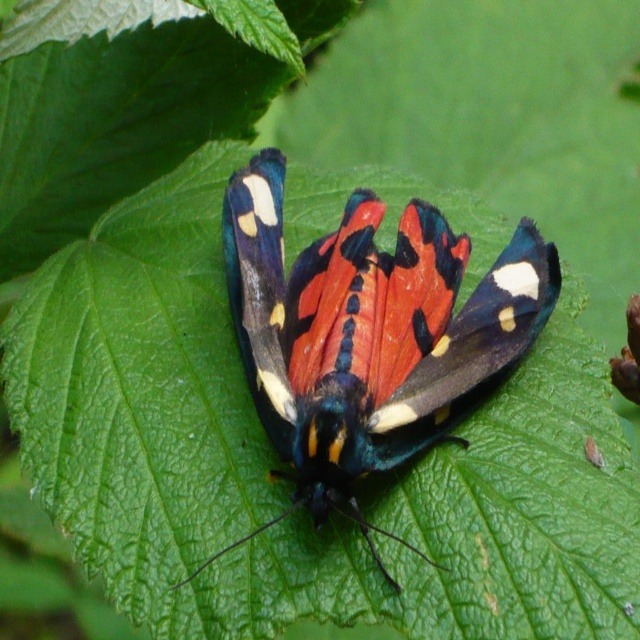Butterfly: (220, 149, 564, 595)
